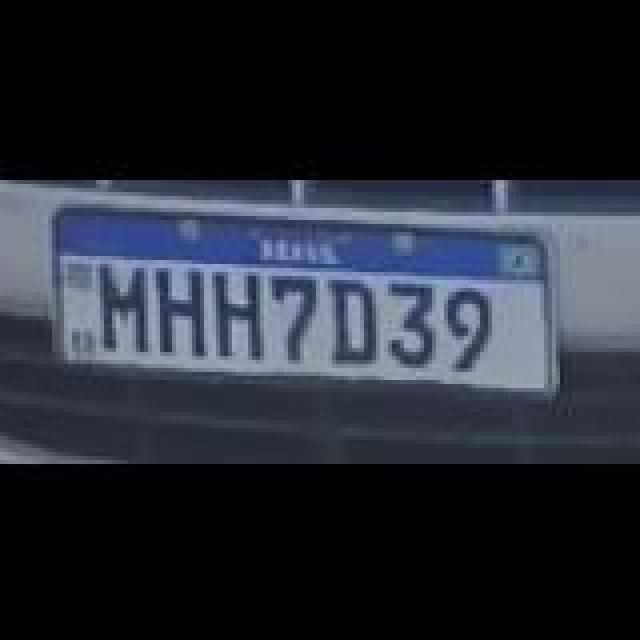3: (382, 278, 442, 362)
7: (270, 272, 330, 360)
9: (444, 282, 500, 366)
D: (326, 276, 386, 364)
H: (152, 262, 216, 354), (210, 266, 270, 358)
M: (92, 262, 156, 354)
